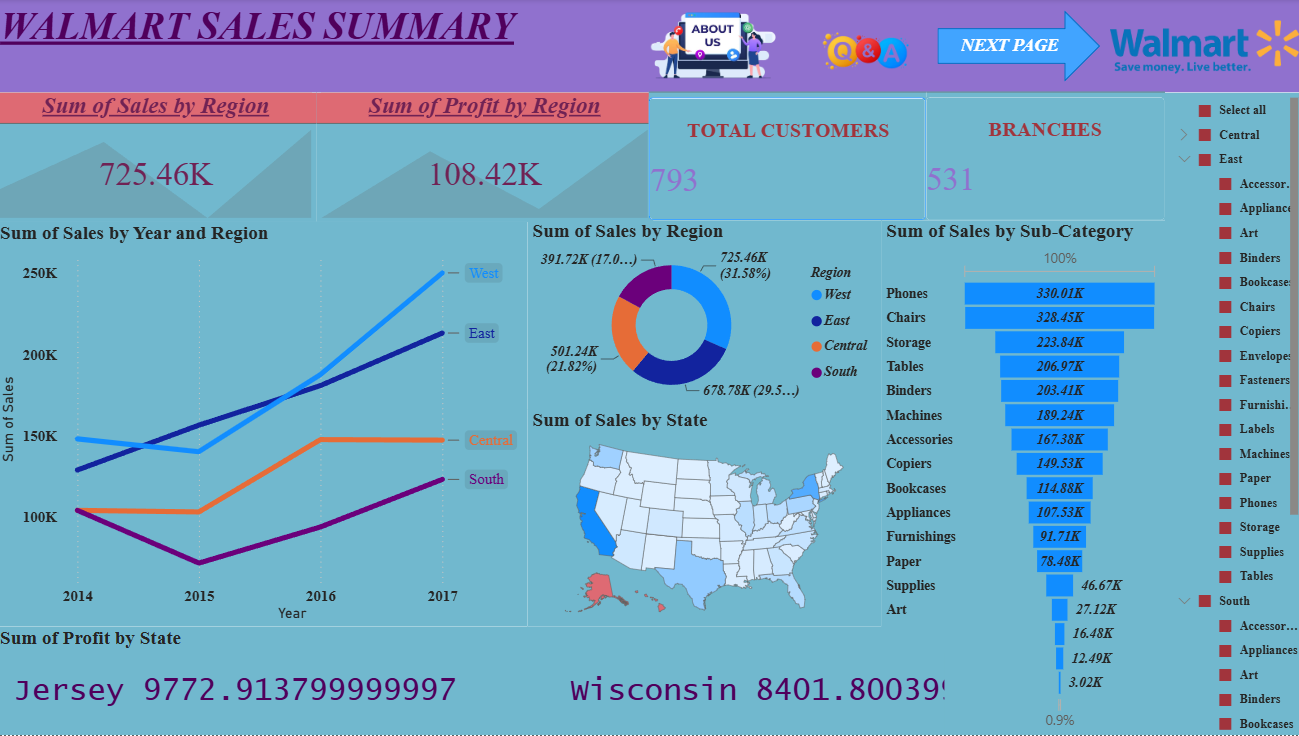

Layout of this report page (visuals, bound fields, positions):
{"tool":"powerbi","page":{"name":"Page 1","canvas":[1280,720],"ordinal":0},"visuals":[{"type":"textbox","box":[0,0,1280.3,91.4],"z":0},{"type":"image","box":[1090.9,6.9,189.4,79.6],"z":1000},{"type":"image","box":[591.4,5.5,220.9,81],"z":2000},{"type":"image","box":[765.7,5.5,172.9,91.9],"z":3000},{"type":"shape","box":[922.1,11,159.2,70],"z":4000},{"type":"lineChart","fields":{"Category":["Orders.Order Date.Variation.Date Hierarchy.Year","Orders.Order Date.Variation.Date Hierarchy.Quarter","Orders.Order Date.Variation.Date Hierarchy.Month","Orders.Order Date.Variation.Date Hierarchy.Day"],"Series":["Orders.Region"],"Y":["Sum(Orders.Sales)"]},"box":[0,217.7,520.9,396.2],"z":5000},{"type":"kpi","fields":{"Indicator":["Sum(Orders.Sales)"],"TrendLine":["Orders.Region"]},"box":[0,91.4,314.7,126.4],"z":6000},{"type":"slicer","fields":{"Values":["Orders.Region","Orders.Sub-Category"]},"box":[1144.6,91.7,135.7,628.5],"z":7000},{"type":"kpi","fields":{"Indicator":["Sum(Orders.Profit)"],"TrendLine":["Orders.Region"]},"box":[314.7,91.4,329.5,126.4],"z":8000},{"type":"cardVisual","fields":{"Data":["Orders.TOTAL CUSTOMERS"]},"box":[639.5,90.5,271.5,126],"z":9000},{"type":"cardVisual","fields":{"Data":["Orders.BRANCHES"]},"box":[911,90.5,233.6,126],"z":10000},{"type":"donutChart","fields":{"Category":["Orders.Region"],"Y":["Sum(Orders.Sales)"]},"box":[520.9,216.4,346.1,184.6],"z":11000},{"type":"shapeMap","fields":{"Category":["Orders.State"],"Value":["Sum(Orders.Sales)"]},"box":[520.9,401.1,346.1,212.8],"z":12000},{"type":"funnel","fields":{"Category":["Orders.Sub-Category"],"Y":["Sum(Orders.Sales)"]},"box":[867,216.4,277.6,503.8],"z":13000},{"type":"ScrollingTextVisual1448795304508","fields":{"Category":["Orders.State"],"Measure Absolute":["Sum(Orders.Profit)"]},"box":[0,613.9,934.2,106.4],"z":14000}]}

Visuals, with their boxes in screenshot pixels (x1, y1, x2, y2), scaled from the page's 1280x720 canvas onto the 1299x736 screenshot:
textbox: [left=0, top=0, right=1298, bottom=93]
image: [left=1107, top=7, right=1298, bottom=88]
image: [left=600, top=6, right=824, bottom=88]
image: [left=777, top=6, right=953, bottom=100]
shape: [left=936, top=11, right=1097, bottom=83]
lineChart - Orders.Order Date.Variation.Date Hierarchy.Year x Orders.Order Date.Variation.Date Hierarchy.Quarter: [left=0, top=223, right=529, bottom=628]
kpi - Sum(Orders.Sales) x Orders.Region: [left=0, top=93, right=319, bottom=223]
slicer - Orders.Region x Orders.Sub-Category: [left=1162, top=94, right=1298, bottom=735]
kpi - Sum(Orders.Profit) x Orders.Region: [left=319, top=93, right=654, bottom=223]
cardVisual - Orders.TOTAL CUSTOMERS: [left=649, top=93, right=925, bottom=221]
cardVisual - Orders.BRANCHES: [left=925, top=93, right=1162, bottom=221]
donutChart - Orders.Region x Sum(Orders.Sales): [left=529, top=221, right=880, bottom=410]
shapeMap - Orders.State x Sum(Orders.Sales): [left=529, top=410, right=880, bottom=628]
funnel - Orders.Sub-Category x Sum(Orders.Sales): [left=880, top=221, right=1162, bottom=735]
ScrollingTextVisual1448795304508 - Orders.State x Sum(Orders.Profit): [left=0, top=628, right=948, bottom=735]
